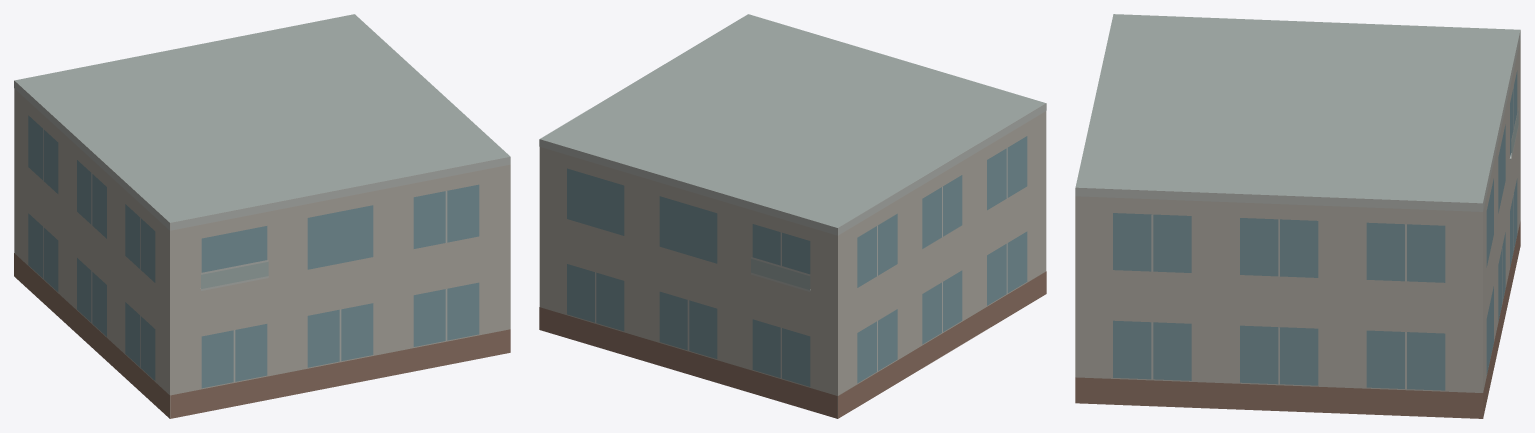
The model's file is survey-upis-32801306.glb.
3 views of the same model, side by side, from view 1: azimuth 30°, elevation 25°; view 2: azimuth 150°, elevation 25°; view 3: azimuth 270°, elevation 25° (orthographic). The views are drawn at different scales.
Parts seen in each view (by area): view 1: survey-upis-32801306.tmp; view 2: survey-upis-32801306.tmp; view 3: survey-upis-32801306.tmp.
Boxes of the visible parts, x1,y1,x2,y2 form: survey-upis-32801306.tmp: (14, 14, 510, 418); survey-upis-32801306.tmp: (539, 14, 1046, 418); survey-upis-32801306.tmp: (1075, 14, 1520, 418).
Size of the model in its own units: 11.5 by 6.1 by 11.43.
